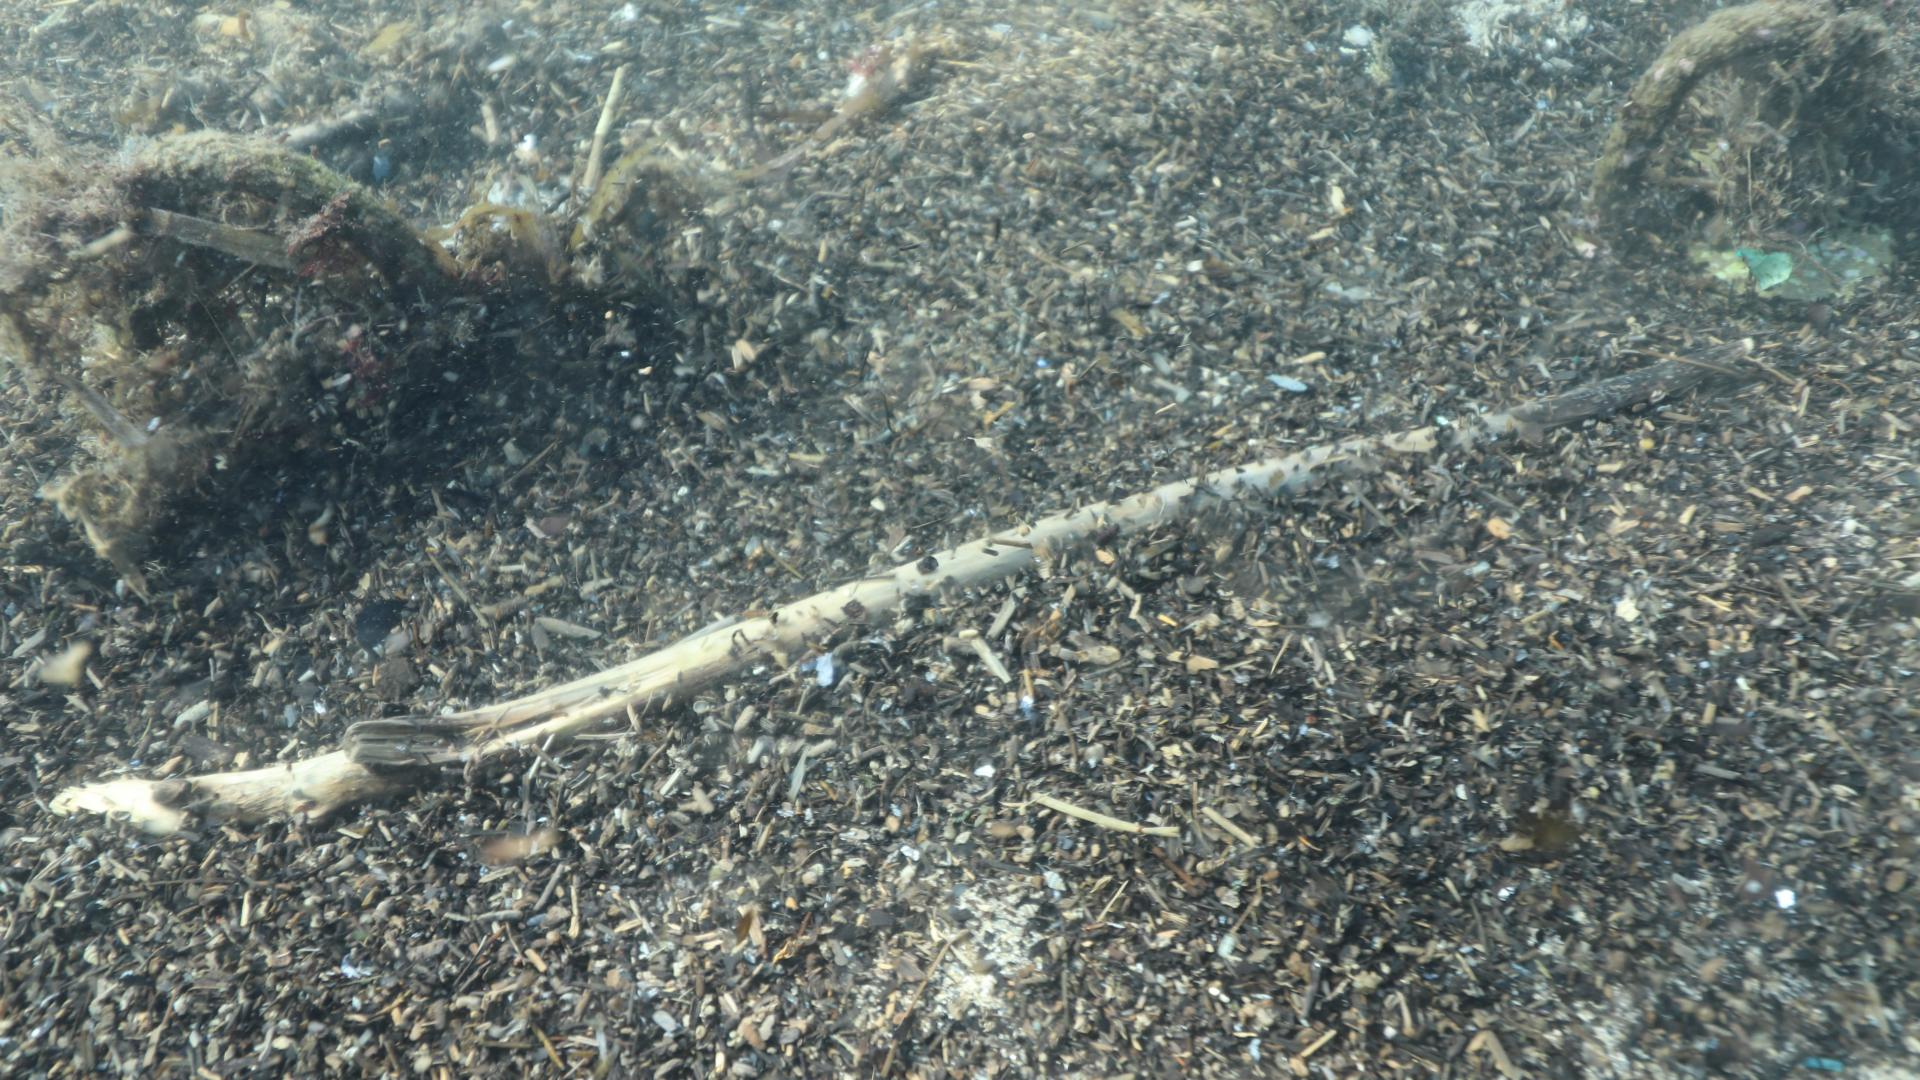wood: (46, 335, 1755, 833)
